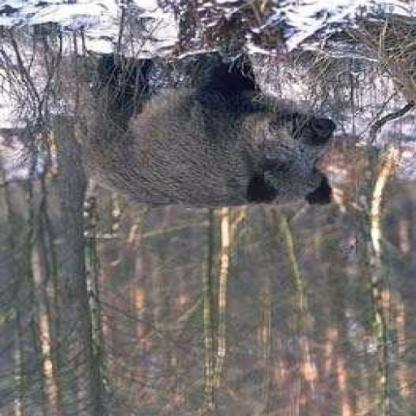boar: (67, 25, 356, 224)
